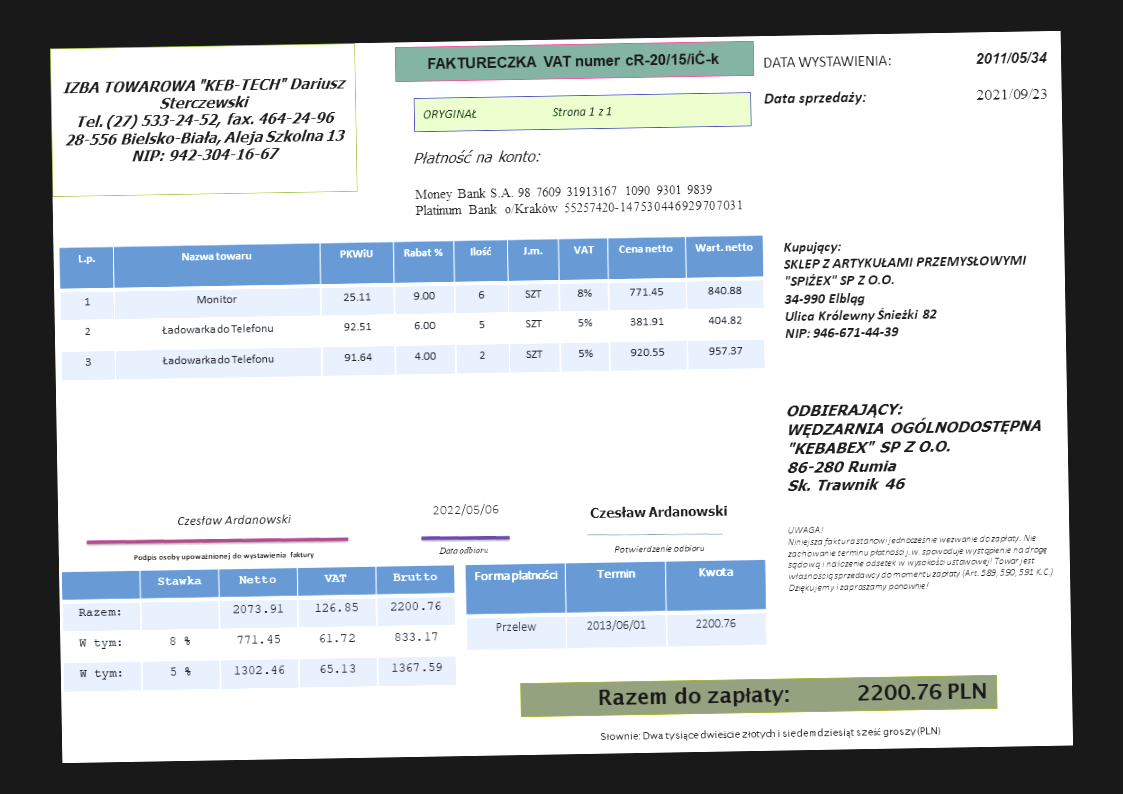Table: (57, 232, 768, 383), (60, 563, 458, 694), (463, 556, 769, 653)
TextBox: (59, 71, 349, 168), (780, 233, 1033, 343), (783, 398, 1046, 496), (785, 517, 1056, 596), (411, 179, 746, 219), (595, 678, 989, 711), (597, 722, 943, 746), (425, 48, 723, 73), (419, 101, 614, 123), (129, 547, 317, 564), (586, 500, 731, 522), (410, 145, 544, 168), (760, 50, 893, 71), (175, 509, 294, 529), (762, 87, 868, 109), (974, 47, 1050, 68), (973, 84, 1049, 104), (610, 541, 707, 556), (431, 501, 500, 519), (435, 543, 491, 557)
